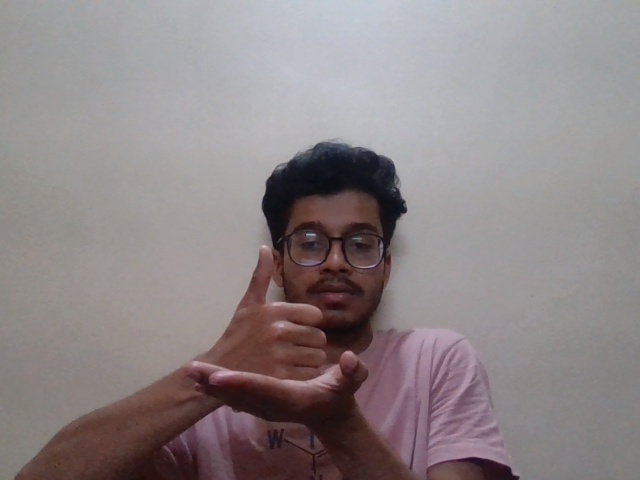help: (193, 245, 377, 436)
